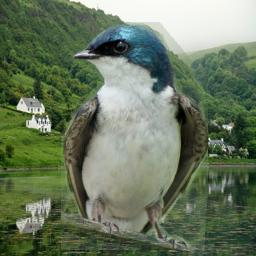Swallow: (61, 22, 208, 250)
